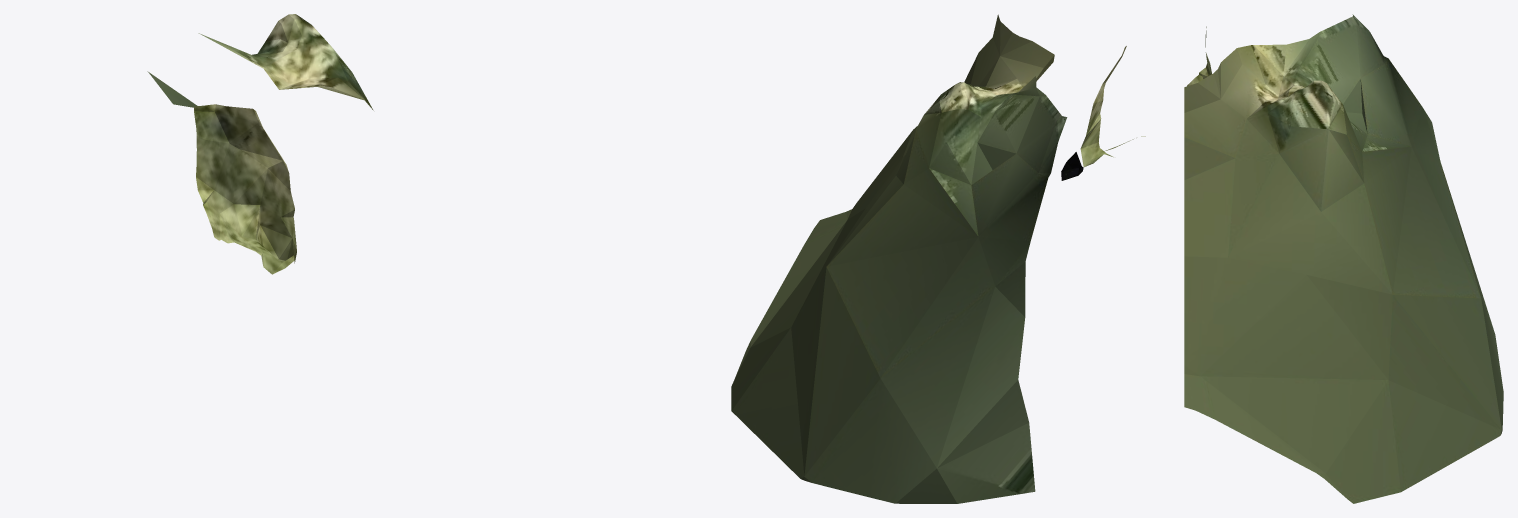
3 renders of one model, left to right at view 1: azimuth 30°, elevation 25°; view 2: azimuth 150°, elevation 25°; view 3: azimuth 270°, elevation 25°, orthographic. The views are drawn at different scales.
Size of the model in its own units: 5.9 by 5.9 by 5.11.
Materials: 3 (3 with a texture image).
